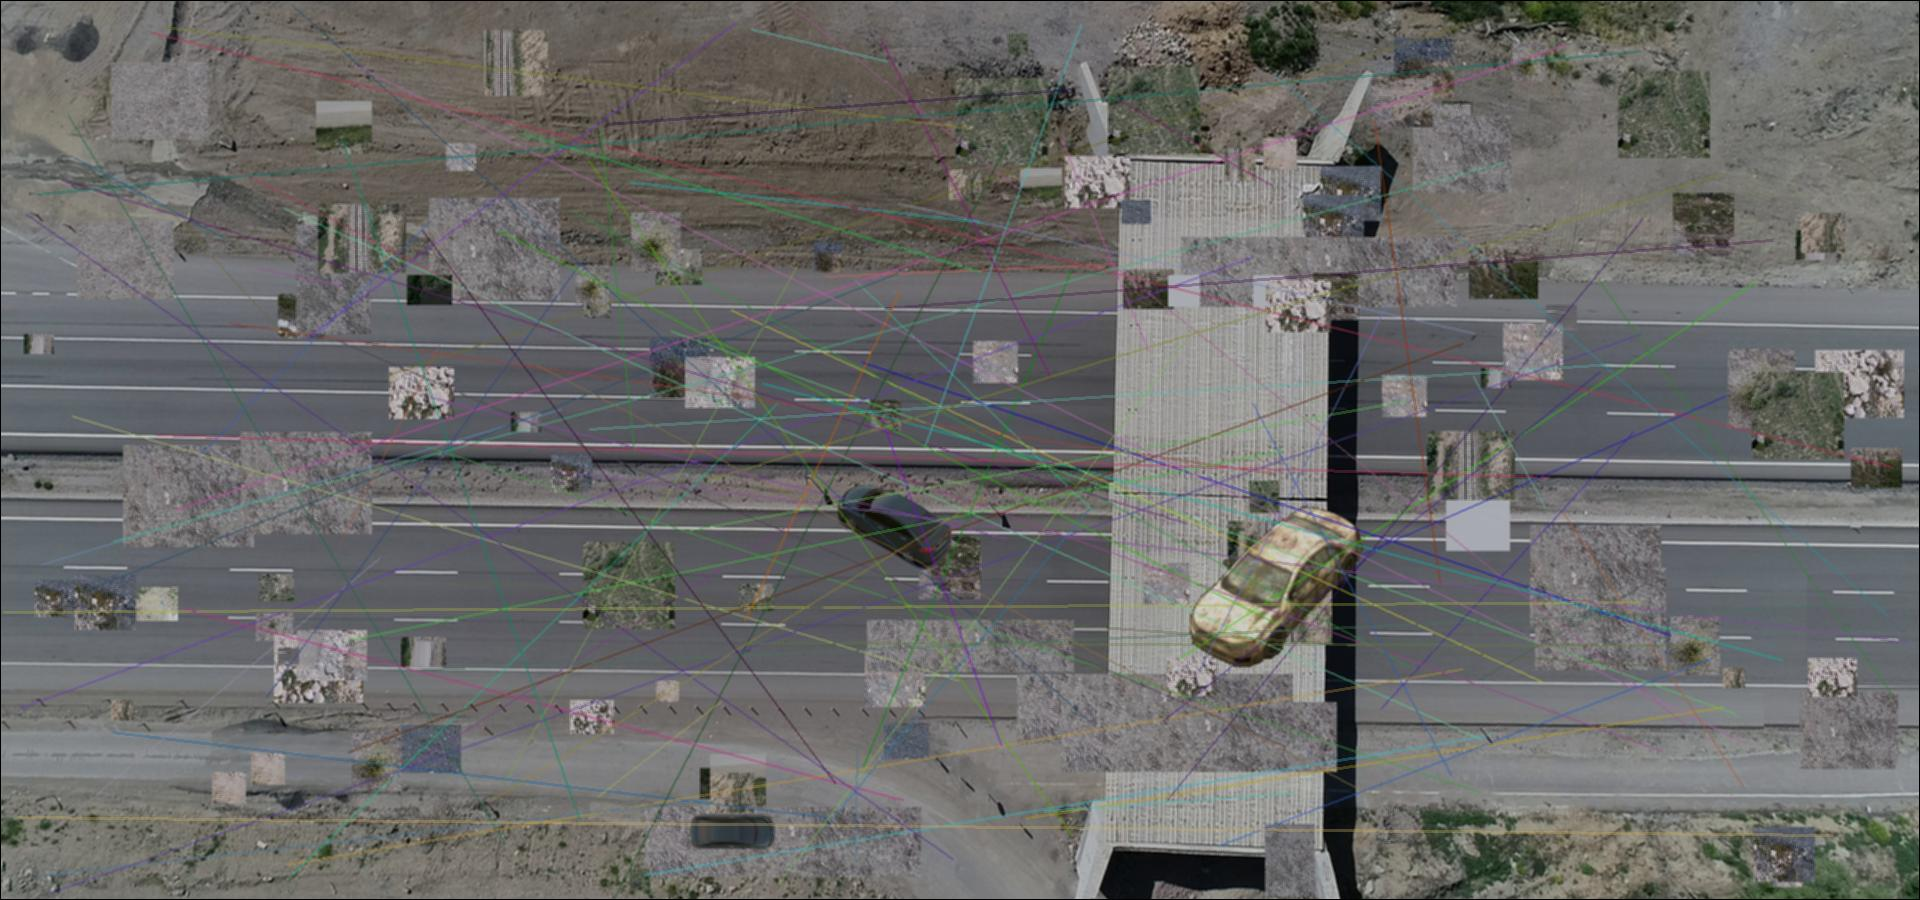arac: (1187, 504, 1381, 675), (838, 482, 954, 571), (689, 812, 775, 850)
